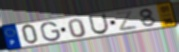0: (67, 17, 88, 39), (20, 23, 40, 46)
8: (138, 8, 158, 28)
G: (39, 21, 62, 43)
U: (88, 13, 111, 36)
Z: (114, 9, 139, 32)
